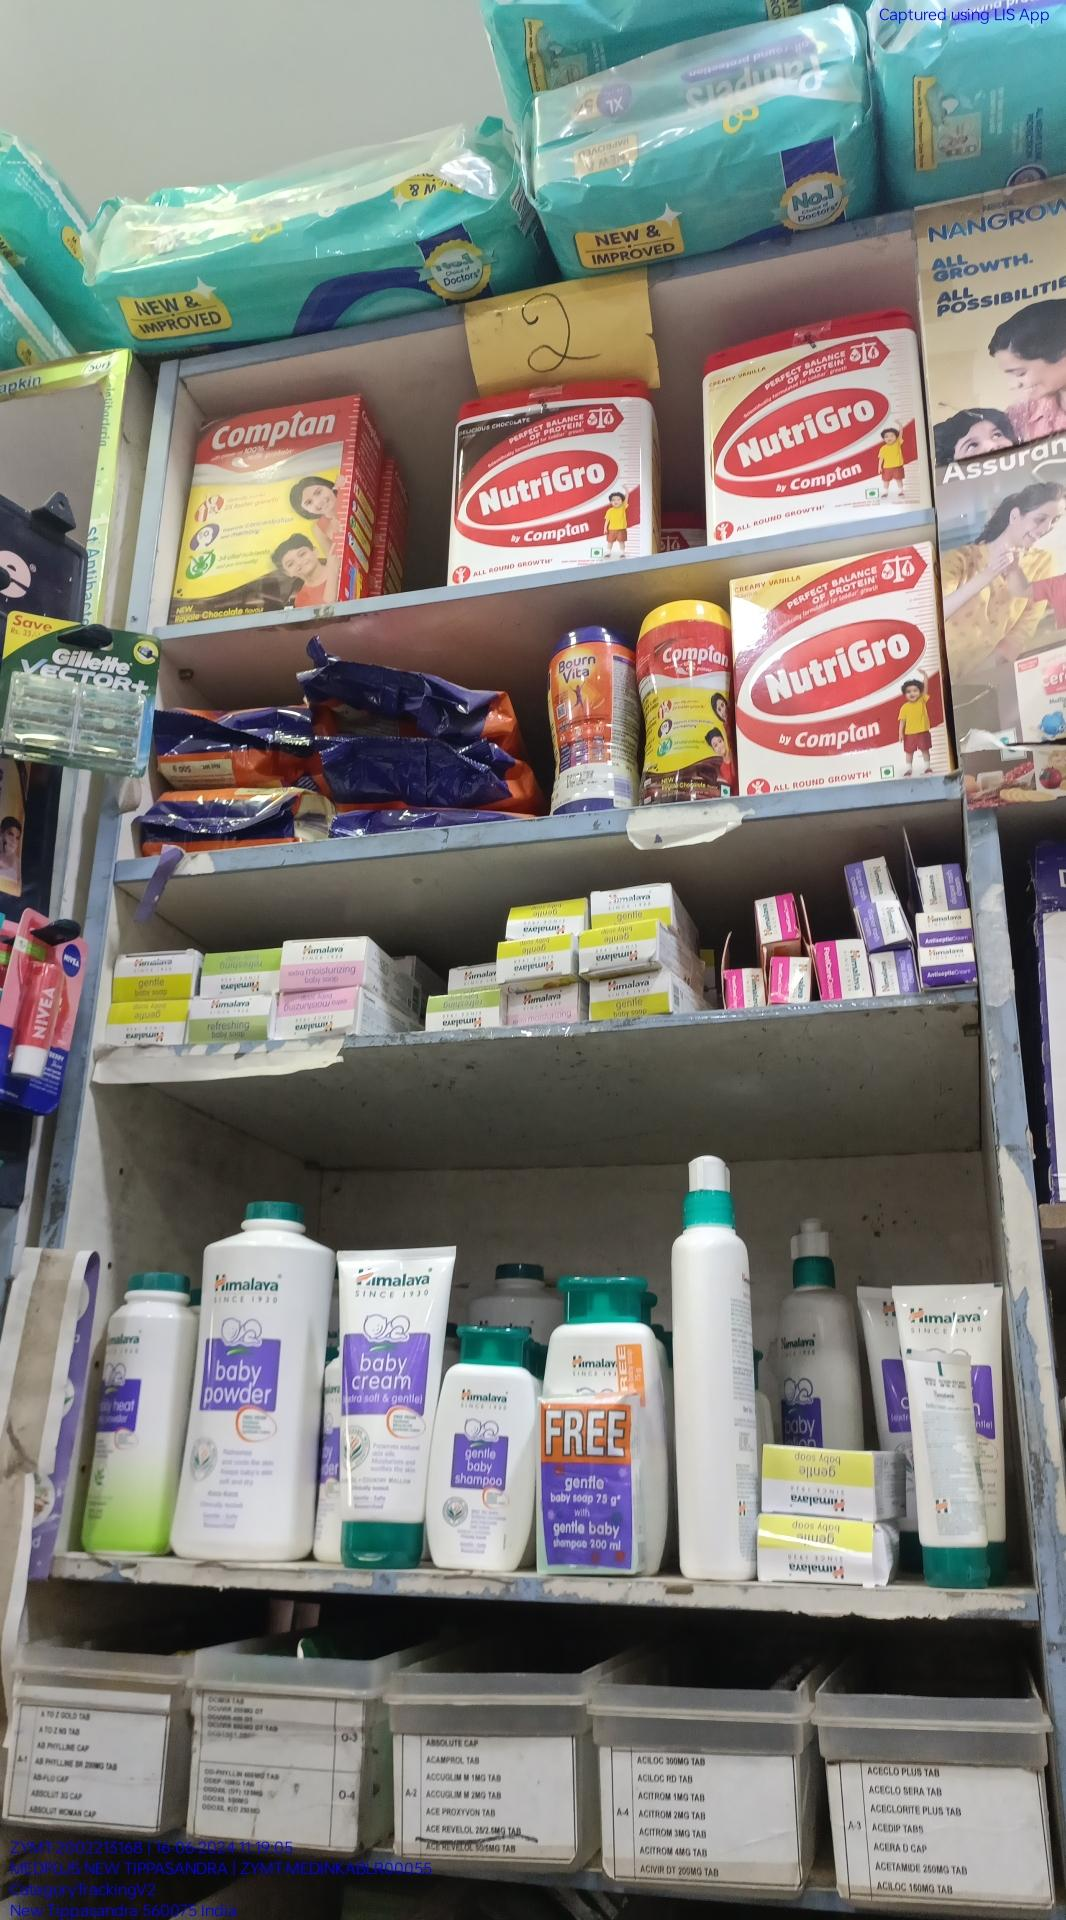COMPLAN_CHOCOLATE_500_GMS_JAR: (638, 596, 729, 801)
